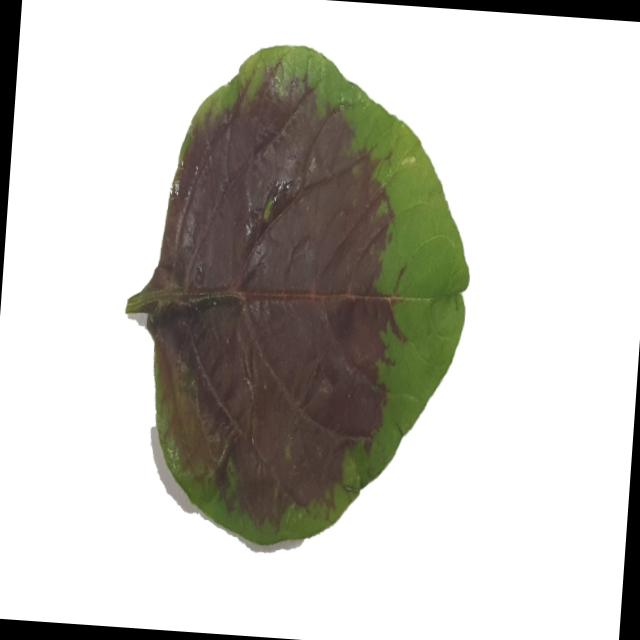Medicinal-Arive Dantu: (110, 29, 486, 564)
